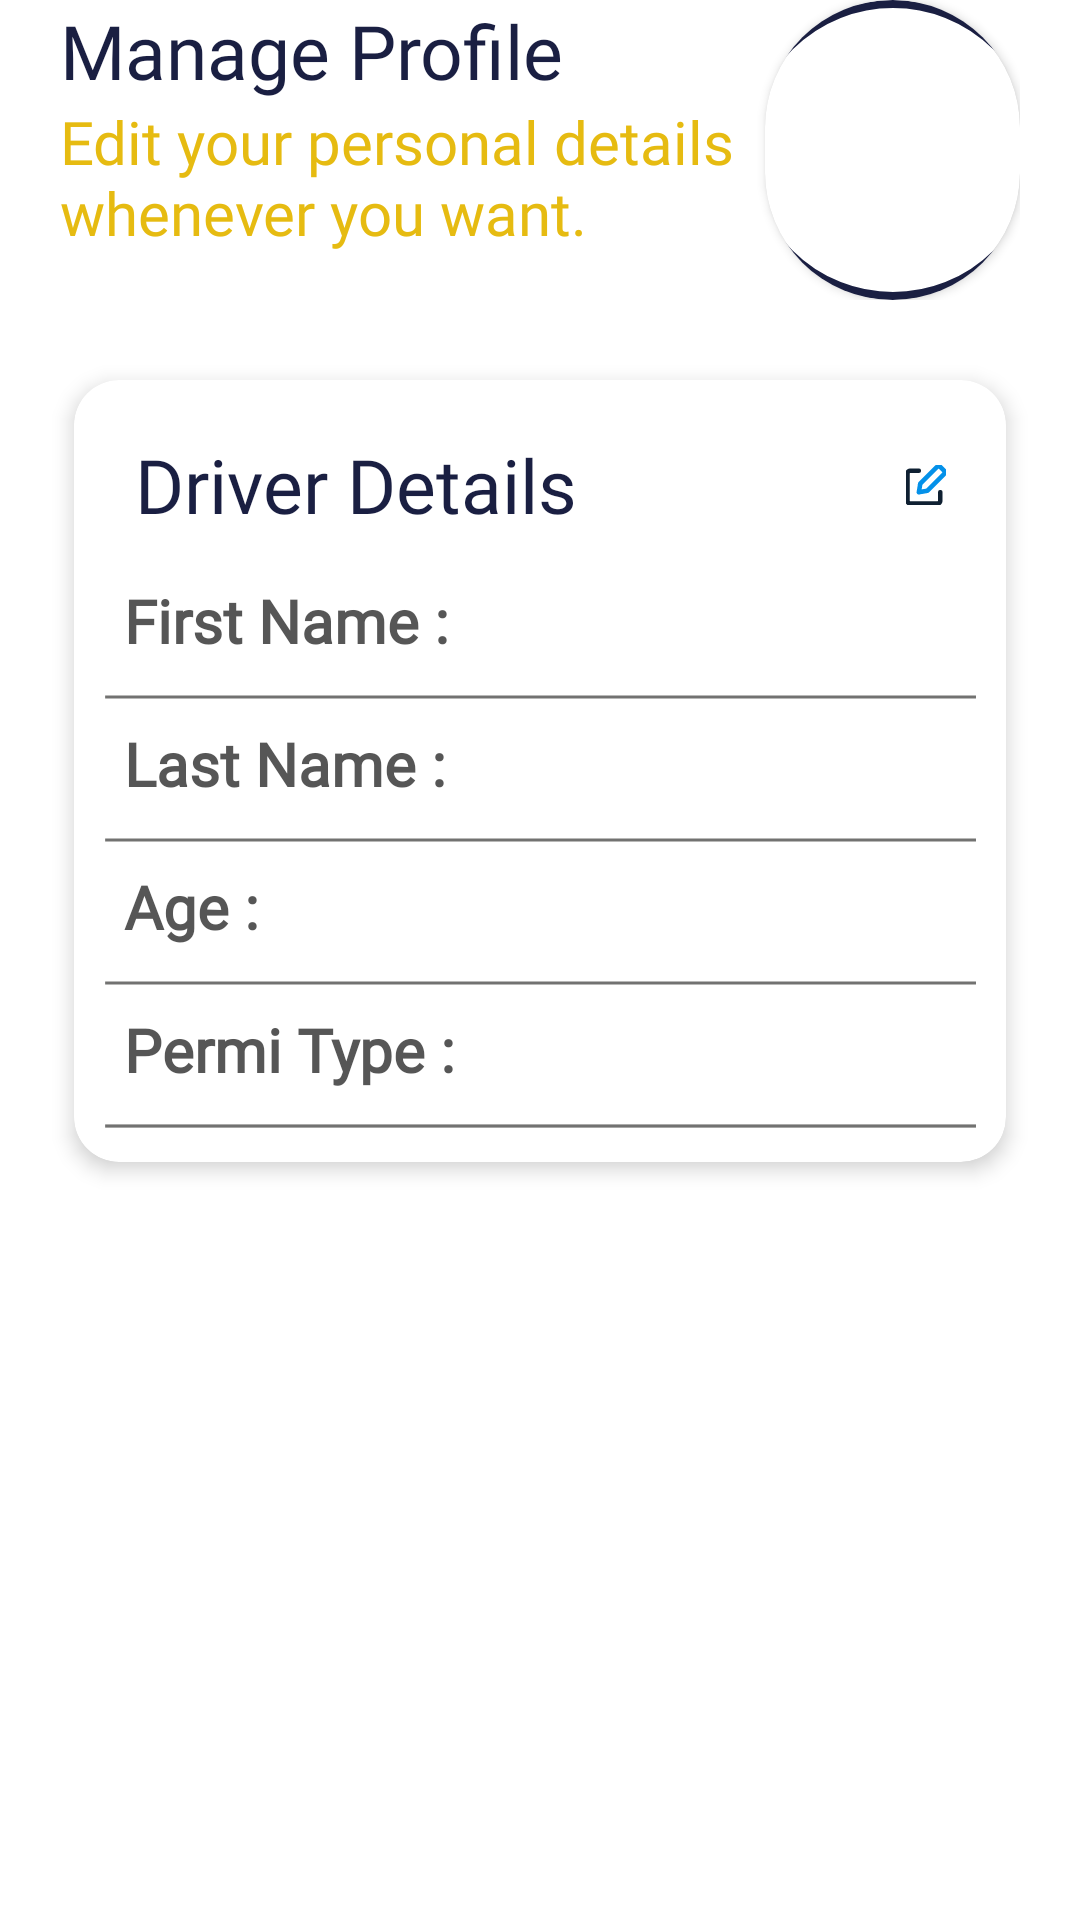

Icon click points for this 1080px×1920px phone screenshot, format [x,y]:
edit done: [926,485]
